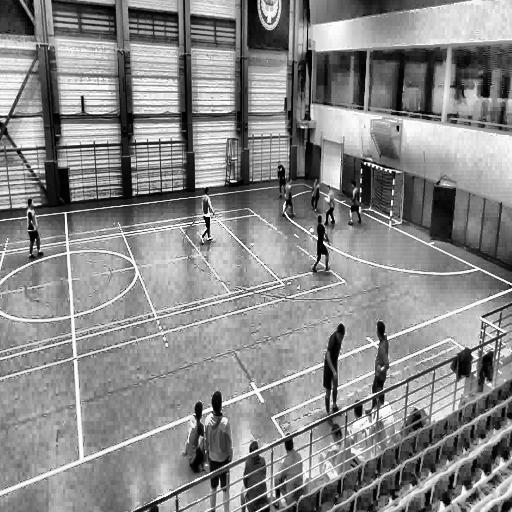ball: (309, 226, 314, 237)
player: (201, 393, 233, 512), (323, 322, 344, 418), (312, 208, 330, 274), (26, 197, 44, 260), (374, 321, 389, 395), (200, 186, 214, 245), (348, 179, 361, 227), (282, 178, 295, 222), (324, 184, 336, 227), (275, 158, 287, 200), (310, 177, 321, 214)
